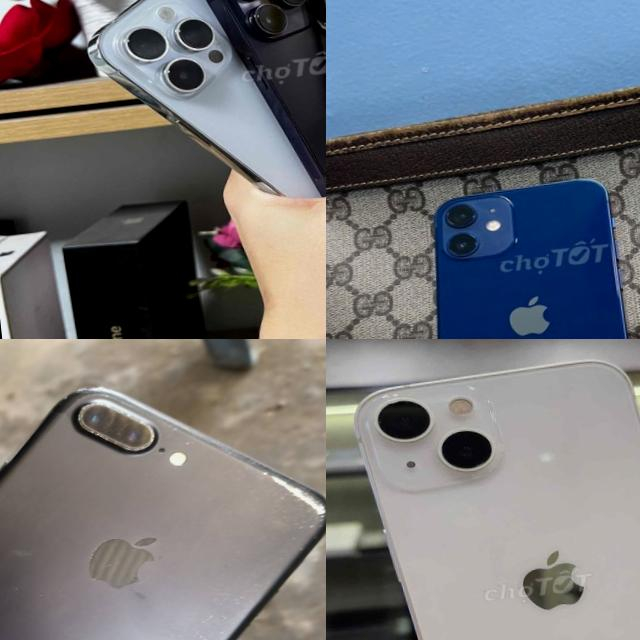scratch: (76, 395, 157, 458), (271, 470, 326, 533), (70, 382, 114, 398), (158, 419, 178, 432), (195, 628, 210, 640), (200, 612, 213, 623), (182, 438, 195, 446), (218, 612, 230, 620), (212, 596, 223, 604), (262, 465, 269, 477), (95, 542, 105, 550), (173, 633, 184, 640), (292, 546, 304, 552), (218, 627, 226, 633), (92, 576, 99, 582), (90, 552, 94, 560), (62, 396, 67, 400)
